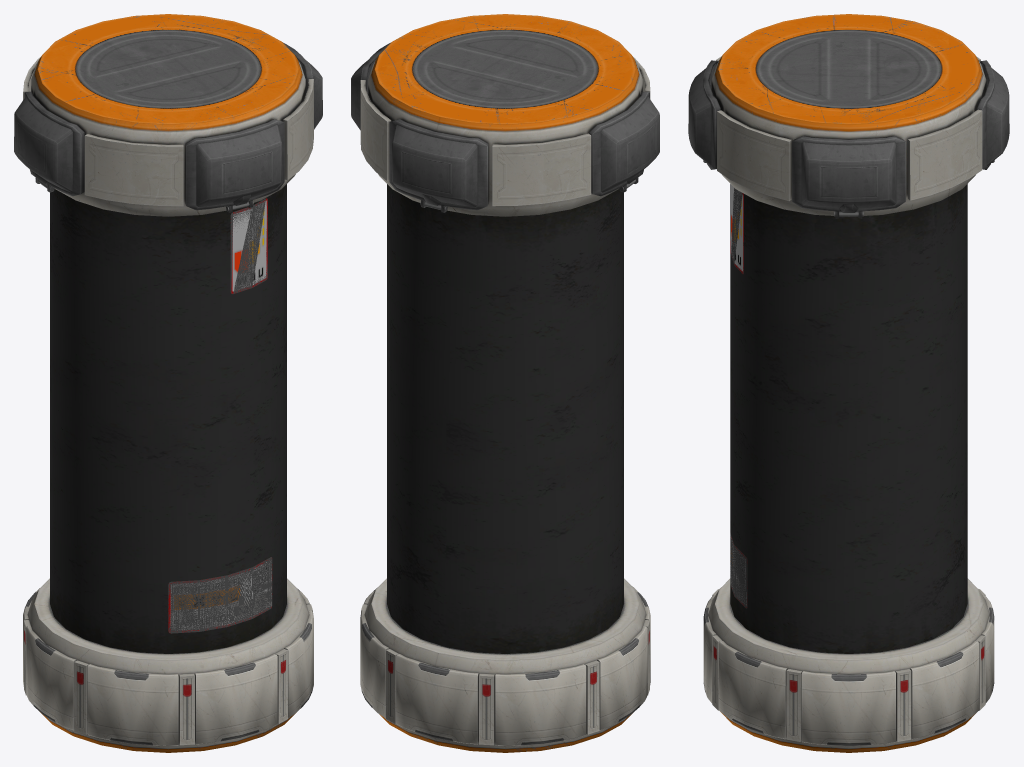
File: structure_gel_sample.dae
The picture shows the model from 3 angles, left to right: view 1: azimuth 30°, elevation 25°; view 2: azimuth 150°, elevation 25°; view 3: azimuth 270°, elevation 25°; orthographic projection.
Visible parts, largest first — view 1: glass, structure_gel; view 2: glass, structure_gel; view 3: glass, structure_gel.
Part boxes in pixels (bbox=[...]): glass: bbox=[50, 184, 286, 653]; structure_gel: bbox=[14, 14, 322, 752]; glass: bbox=[387, 184, 623, 653]; structure_gel: bbox=[351, 14, 659, 752]; glass: bbox=[730, 184, 967, 653]; structure_gel: bbox=[688, 14, 1009, 752].
Bounding box in the file's own units: 0.2766 × 0.596 × 0.2766.
